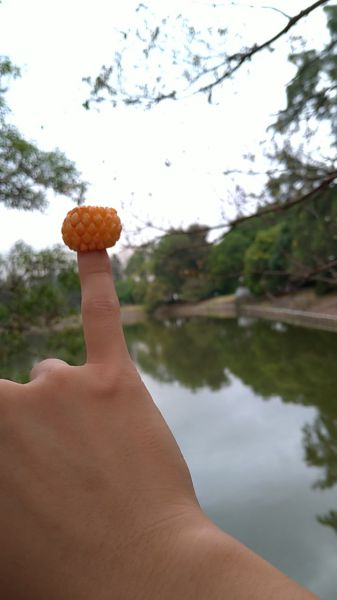eggs: (60, 205, 123, 251)
